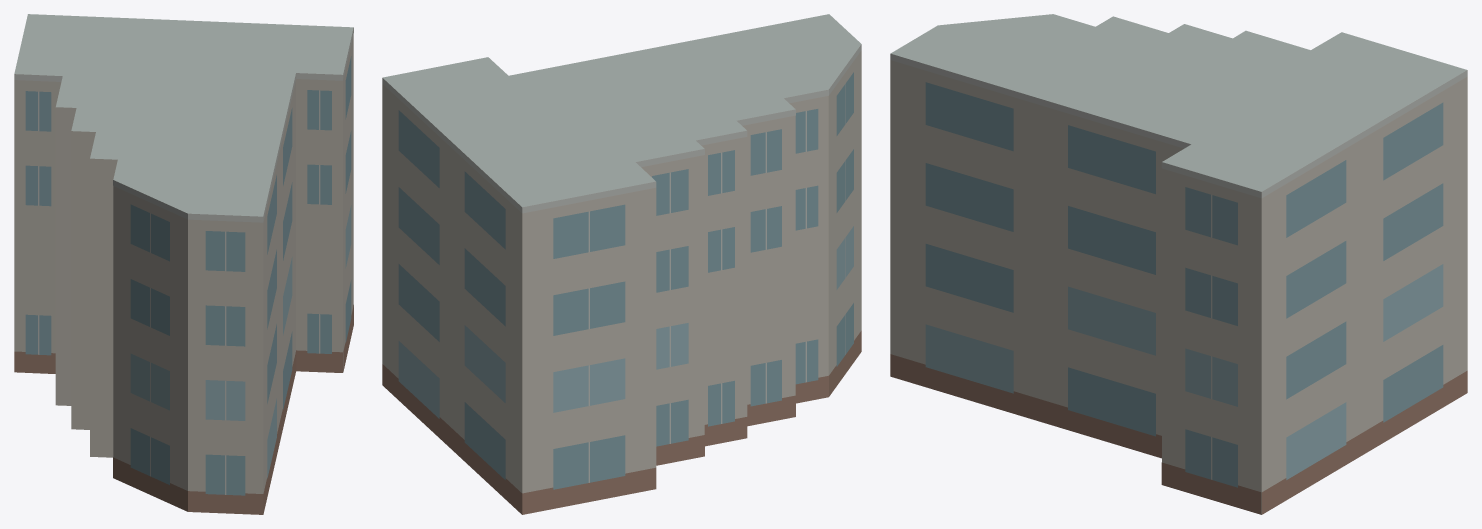
The model's file is residential-e2a17630-0418-4d65-881a-f877be0dbe4b.glb.
3 renders of one model, left to right at view 1: azimuth 30°, elevation 25°; view 2: azimuth 150°, elevation 25°; view 3: azimuth 270°, elevation 25°, orthographic. The views are drawn at different scales.
Parts seen in each view (by area): view 1: residential-e2a17630-0418-4d65-881a-f877be0dbe4b.tmp; view 2: residential-e2a17630-0418-4d65-881a-f877be0dbe4b.tmp; view 3: residential-e2a17630-0418-4d65-881a-f877be0dbe4b.tmp.
Boxes of the visible parts, box(x1,y1,x2,y2) form: residential-e2a17630-0418-4d65-881a-f877be0dbe4b.tmp: box(14, 14, 353, 514); residential-e2a17630-0418-4d65-881a-f877be0dbe4b.tmp: box(382, 14, 861, 514); residential-e2a17630-0418-4d65-881a-f877be0dbe4b.tmp: box(890, 14, 1467, 514).
Size of the model in its own units: 14.42 by 12.2 by 19.77.
